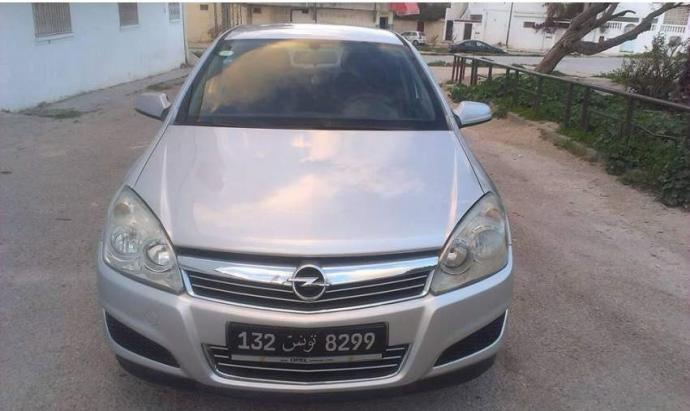LP: (224, 320, 393, 358)
